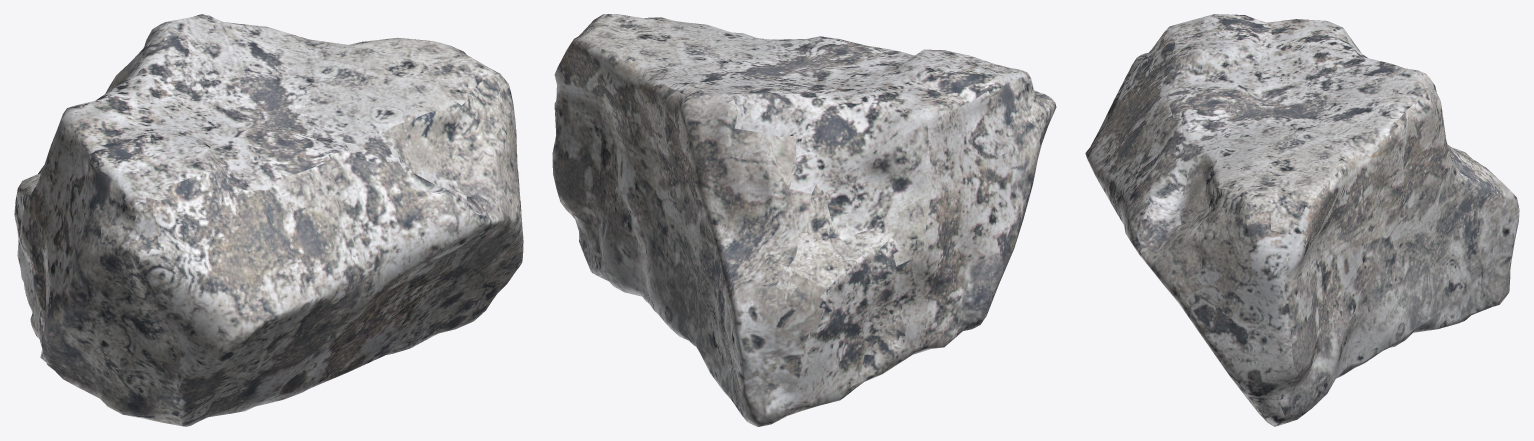
File: SM_Small_Rock_D.fbx
The picture shows the model from 3 angles, left to right: view 1: azimuth 30°, elevation 25°; view 2: azimuth 150°, elevation 25°; view 3: azimuth 270°, elevation 25°; orthographic projection. The views are drawn at different scales.
Visible parts, largest first — view 1: SM_Small_Rock_D_LOD0; view 2: SM_Small_Rock_D_LOD0; view 3: SM_Small_Rock_D_LOD0.
Part boxes in pixels (x1,y1,x2,y2): SM_Small_Rock_D_LOD0: (14,14,523,426); SM_Small_Rock_D_LOD0: (552,14,1056,426); SM_Small_Rock_D_LOD0: (1085,14,1519,426).
Size of the model in its own units: 142 by 128 by 85.6.
Materials: 1 (1 with a texture image).
